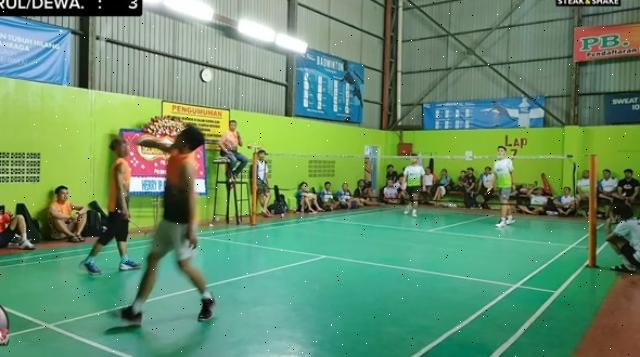Shuttlecock: (94, 32, 110, 55)
